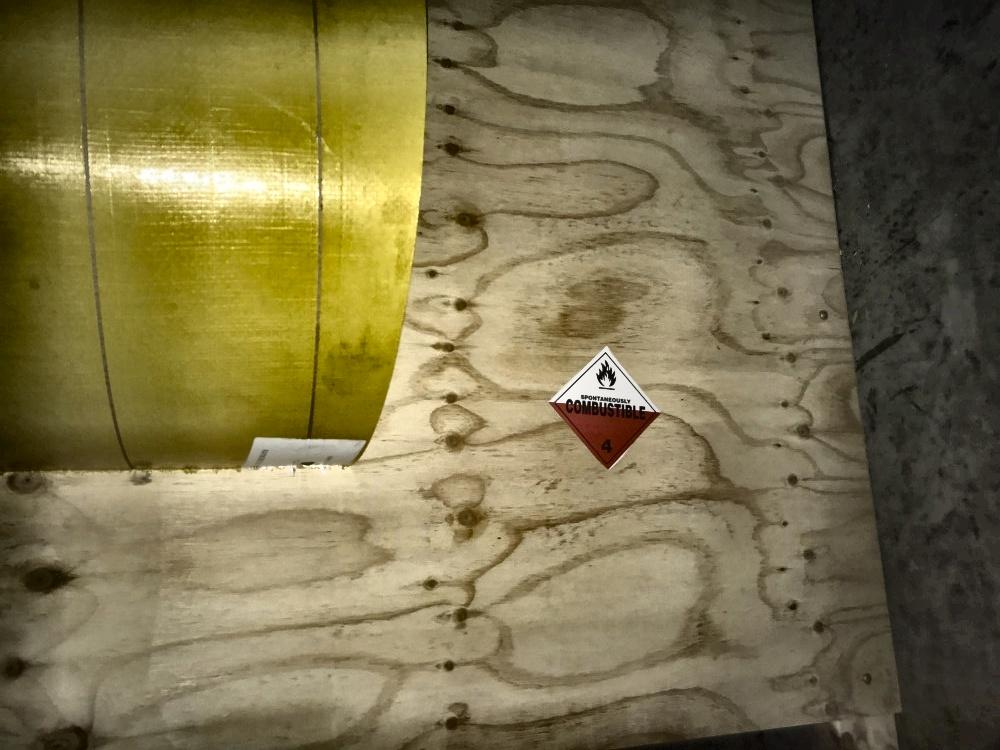spontaneously-combustible: (550, 348, 663, 469)
